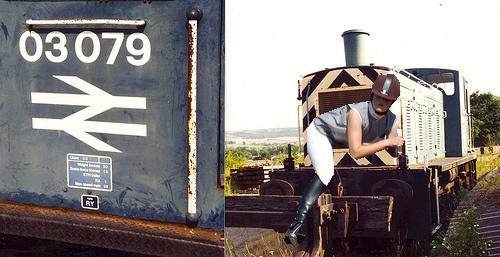tampered: (283, 75, 404, 244)
